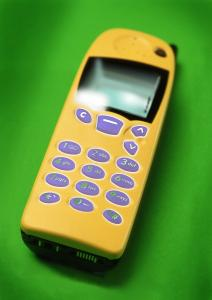phone: (40, 45, 131, 242)
